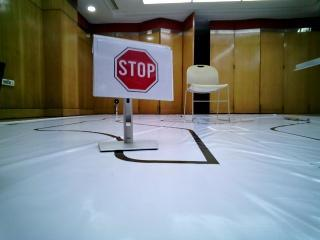stop: (97, 43, 165, 96)
